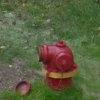Hydrant: (32, 31, 78, 94)
